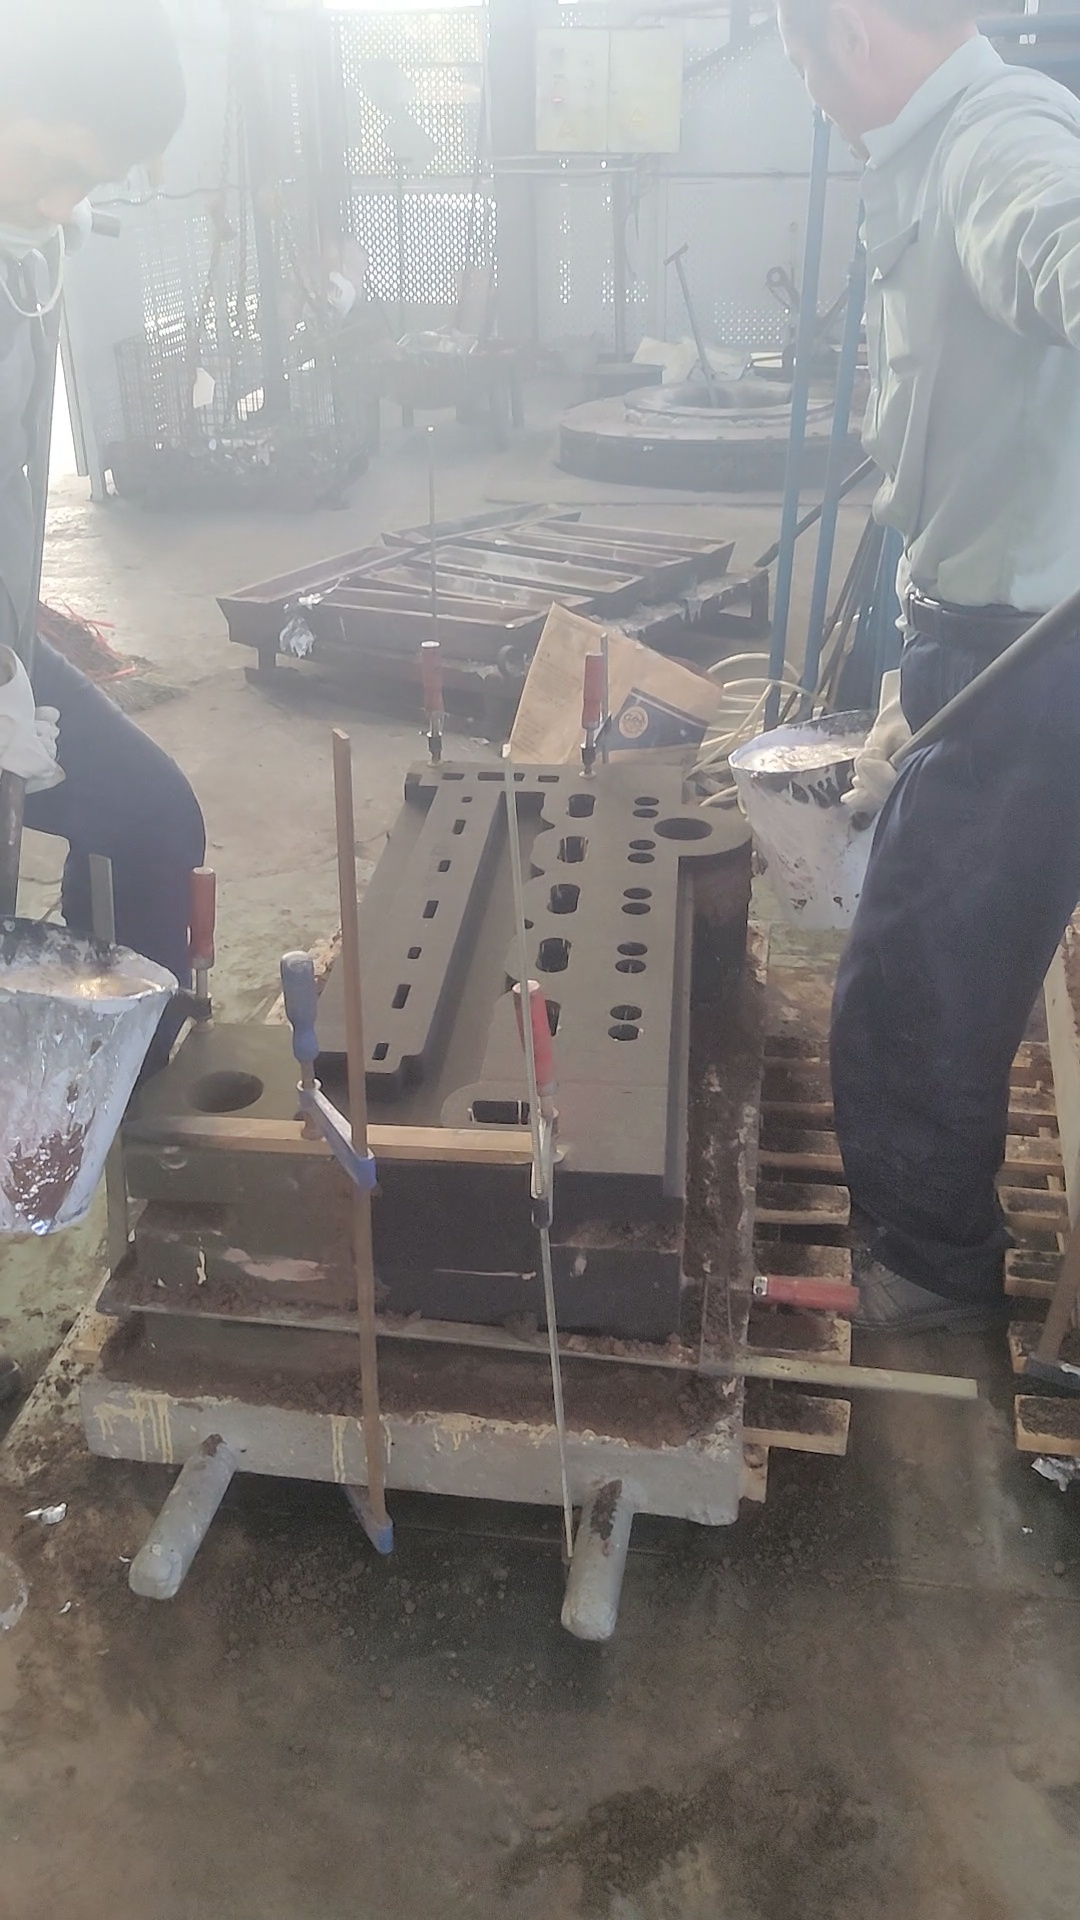pouring hole: (181, 1069, 262, 1113), (654, 818, 713, 840)
